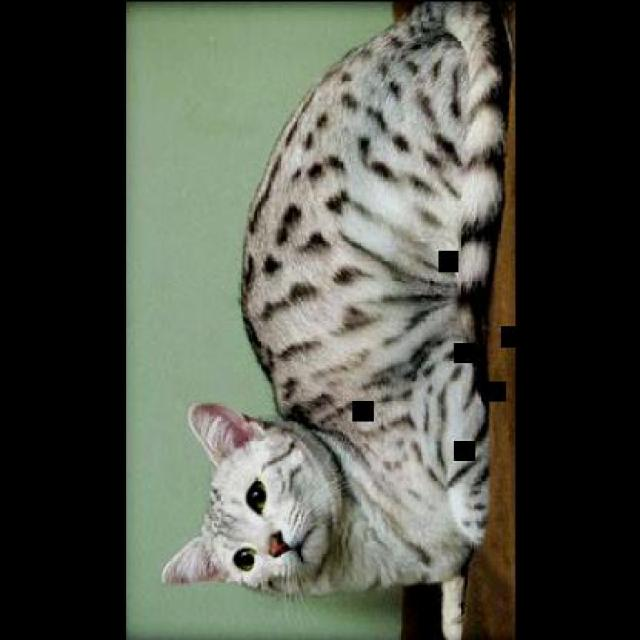unauthorized: (160, 0, 511, 638)
